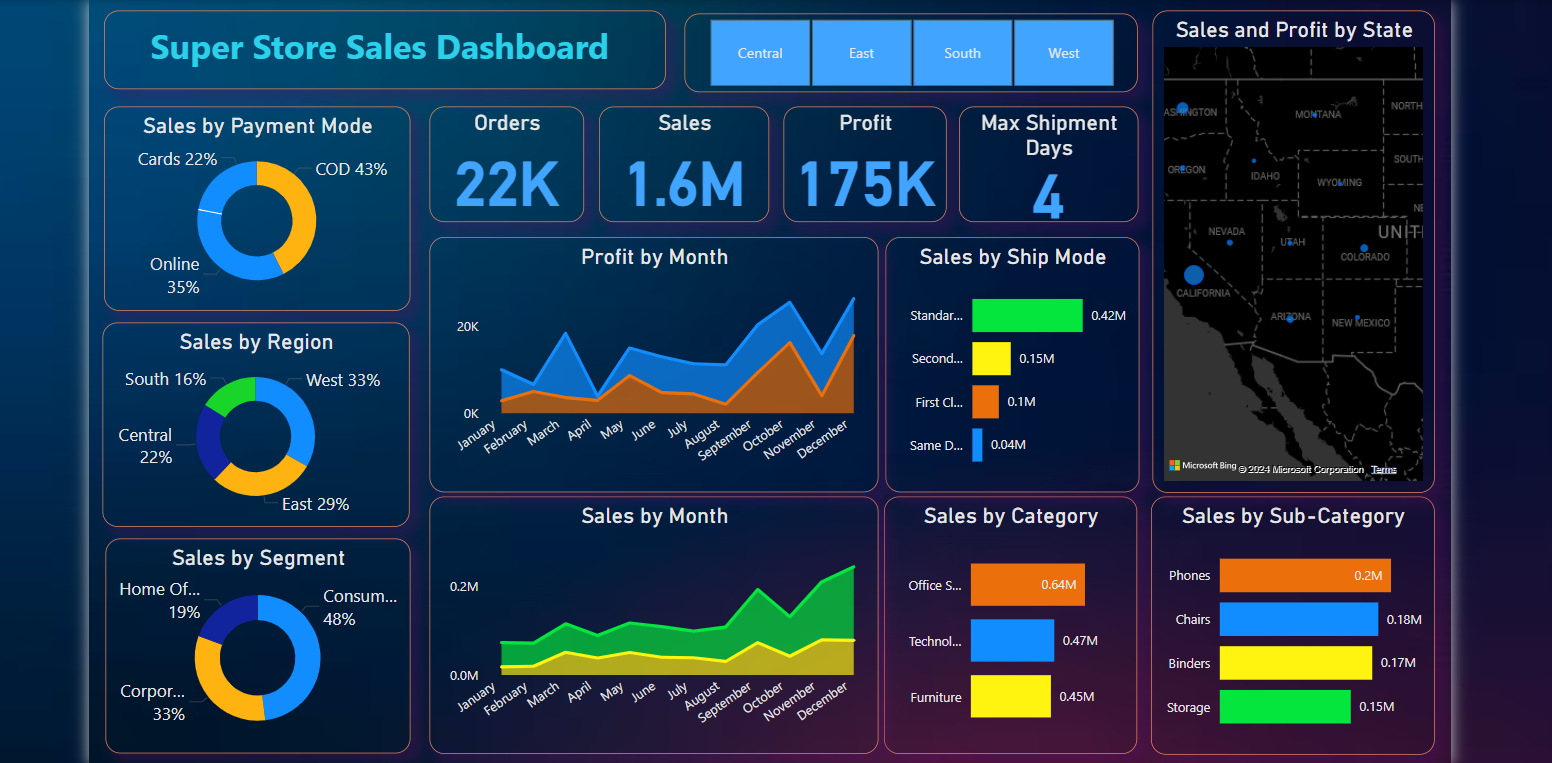

Layout of this report page (visuals, bound fields, positions):
{"tool":"powerbi","page":{"name":"Page 1","canvas":[1280,720],"ordinal":0},"visuals":[{"type":"clusteredBarChart","title":"Sales by Category","fields":{"Category":["SuperStore_Sales_Dataset.Category"],"Y":["Sum(SuperStore_Sales_Dataset.Sales)"]},"box":[747.8,466.7,237.8,242.2],"z":0},{"type":"clusteredBarChart","title":"Sales by  Sub-Category","fields":{"Y":["Sum(SuperStore_Sales_Dataset.Sales)"],"Category":["SuperStore_Sales_Dataset.Sub-Category"]},"box":[1000,466.7,265.6,242.2],"z":1000},{"type":"clusteredBarChart","title":"Sales by  Ship Mode","fields":{"Y":["Sum(SuperStore_Sales_Dataset.Sales)"],"Category":["SuperStore_Sales_Dataset.Ship Mode"]},"box":[748.3,223.3,238.3,240],"z":2000},{"type":"stackedAreaChart","title":"Sales by Month","fields":{"Category":["SuperStore_Sales_Dataset.Order Date.Variation.Date Hierarchy.Month","SuperStore_Sales_Dataset.Order Date.Variation.Date Hierarchy.Day"],"Y":["Sum(SuperStore_Sales_Dataset.Sales)"],"Series":["SuperStore_Sales_Dataset.Order Date.Variation.Date Hierarchy.Year"]},"box":[320,466.7,422.2,242.2],"z":3000},{"type":"stackedAreaChart","title":"Profit by Month","fields":{"Category":["SuperStore_Sales_Dataset.Order Date.Variation.Date Hierarchy.Month","SuperStore_Sales_Dataset.Order Date.Variation.Date Hierarchy.Day"],"Series":["SuperStore_Sales_Dataset.Order Date.Variation.Date Hierarchy.Year"],"Y":["Sum(SuperStore_Sales_Dataset.Profit)"]},"box":[320,223.3,422.2,240],"z":4000},{"type":"map","title":"Sales and Profit by State","fields":{"Category":["SuperStore_Sales_Dataset.State"],"Size":["Sum(SuperStore_Sales_Dataset.Sales)"]},"box":[1000,10,265.6,453.3],"z":5000},{"type":"donutChart","title":"Sales by Payment Mode","fields":{"Y":["Sum(SuperStore_Sales_Dataset.Sales)"],"Category":["SuperStore_Sales_Dataset.Payment Mode"]},"box":[14,100,288,192],"z":6000},{"type":"donutChart","title":"Sales by Region","fields":{"Y":["Sum(SuperStore_Sales_Dataset.Sales)"],"Category":["SuperStore_Sales_Dataset.Region"]},"box":[13.3,303.3,288.3,191.7],"z":7000},{"type":"donutChart","title":"Sales by Payment Mode","fields":{"Y":["Sum(SuperStore_Sales_Dataset.Sales)"],"Category":["SuperStore_Sales_Dataset.Segment"]},"box":[15,506.7,286.7,201.7],"z":8000},{"type":"slicer","fields":{"Values":["SuperStore_Sales_Dataset.Region"]},"box":[560,12,426,74],"z":9000},{"type":"textbox","box":[14,10,528,74],"z":10000},{"type":"card","title":"Sales","fields":{"Values":["Sum(SuperStore_Sales_Dataset.Sales)"]},"box":[480,100,160,108.3],"z":11000},{"type":"card","title":"Orders","fields":{"Values":["Sum(SuperStore_Sales_Dataset.Quantity)"]},"box":[320,100,145,108.3],"z":12000},{"type":"card","title":"Profit","fields":{"Values":["Sum(SuperStore_Sales_Dataset.Profit)"]},"box":[653.3,100,153.3,108.3],"z":13000},{"type":"card","title":"Max Shipment Days","fields":{"Values":["Avg(SuperStore_Sales_Dataset.AvgDelivery)"]},"box":[818.3,100,168.3,108.3],"z":14000}]}

Visuals, with their boxes on the page's 1280x720 design canvas (x1, y1, x2, y2). These are canvas units, not pixel positions in the 1552x763 screenshot, which may show the page scaled, cropped or inside an application window:
"Sales by Category" clusteredBarChart: <box>748,467,986,709</box>
"Sales by  Sub-Category" clusteredBarChart: <box>1000,467,1266,709</box>
"Sales by  Ship Mode" clusteredBarChart: <box>748,223,987,463</box>
"Sales by Month" stackedAreaChart: <box>320,467,742,709</box>
"Profit by Month" stackedAreaChart: <box>320,223,742,463</box>
"Sales and Profit by State" map: <box>1000,10,1266,463</box>
"Sales by Payment Mode" donutChart: <box>14,100,302,292</box>
"Sales by Region" donutChart: <box>13,303,302,495</box>
"Sales by Payment Mode" donutChart: <box>15,507,302,708</box>
slicer - SuperStore_Sales_Dataset.Region: <box>560,12,986,86</box>
textbox: <box>14,10,542,84</box>
"Sales" card: <box>480,100,640,208</box>
"Orders" card: <box>320,100,465,208</box>
"Profit" card: <box>653,100,807,208</box>
"Max Shipment Days" card: <box>818,100,987,208</box>
